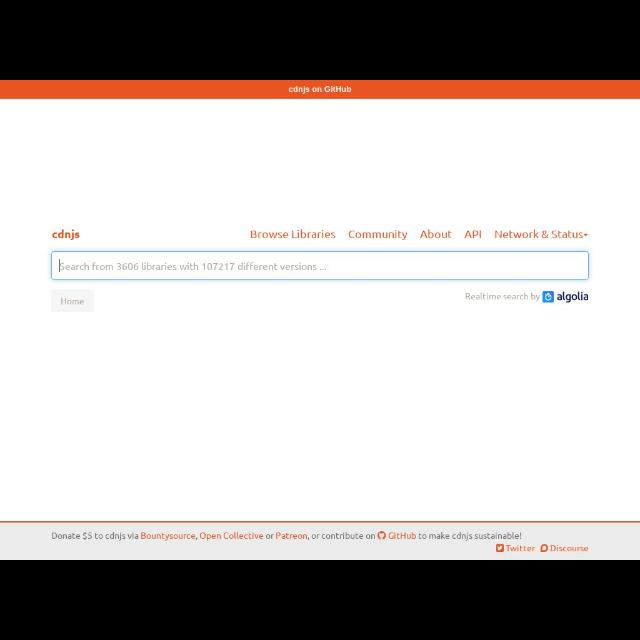icon: (496, 544, 504, 552), (540, 544, 548, 552), (584, 232, 590, 238)
image: (542, 290, 588, 302), (52, 230, 80, 240)
input: (51, 252, 588, 280)
panel: (2, 523, 640, 557)
spinner: (493, 226, 591, 242)
text: (51, 532, 521, 540), (59, 258, 327, 272), (495, 230, 583, 240), (466, 292, 540, 302), (250, 230, 336, 238), (348, 230, 408, 240), (288, 86, 352, 94), (420, 229, 452, 239), (550, 544, 588, 552), (62, 296, 84, 306), (464, 229, 482, 239), (506, 545, 534, 551)
textbutton: (51, 289, 94, 311)
